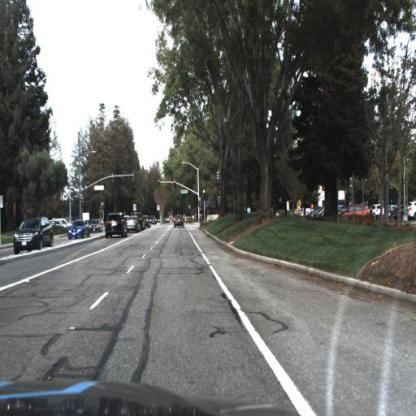car: (14, 217, 55, 257), (336, 201, 374, 222), (102, 210, 128, 237), (69, 217, 92, 242), (107, 214, 128, 238), (89, 216, 105, 237), (373, 200, 389, 221), (126, 214, 141, 233), (173, 213, 186, 232), (125, 215, 136, 234)
trafficLight-Red: (200, 187, 208, 203), (173, 179, 177, 194), (157, 178, 161, 190)
